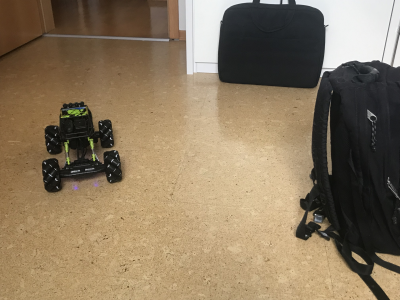remote control car: (39, 99, 123, 193)
